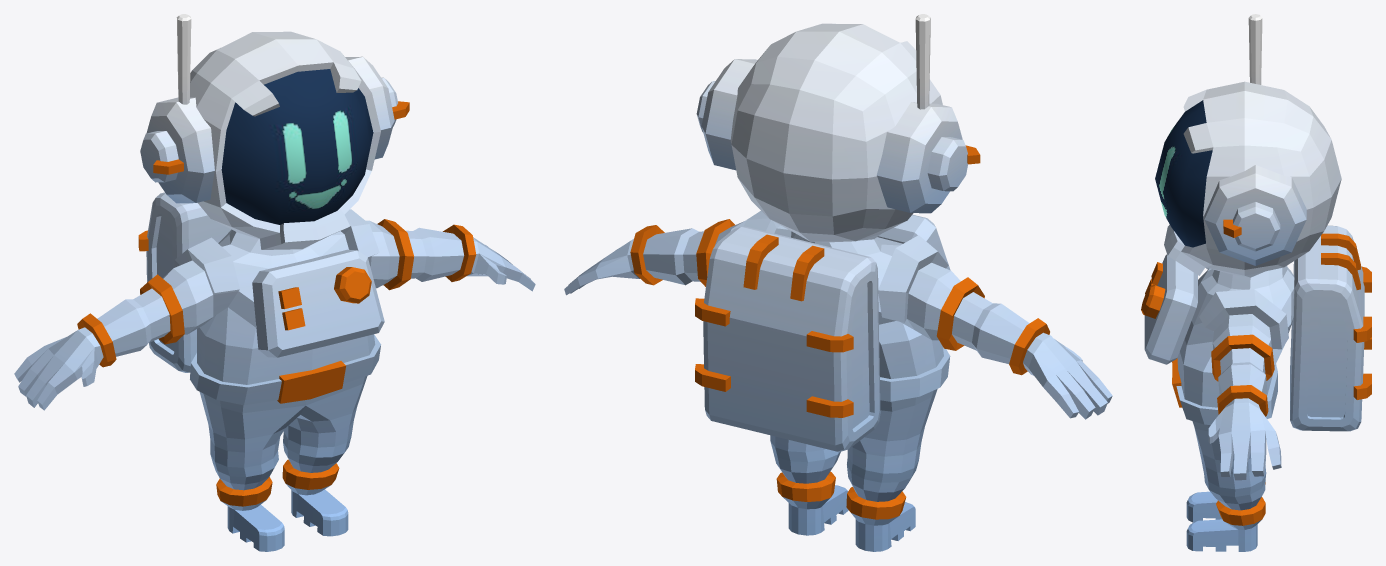
3 views of the same model, side by side, from view 1: azimuth 30°, elevation 25°; view 2: azimuth 150°, elevation 25°; view 3: azimuth 270°, elevation 25° (orthographic). The views are drawn at different scales.
Visible parts, largest first — view 1: Cylinder_Suit_Base_0, Cylinder_Suit_Details_0; view 2: Cylinder_Suit_Base_0, Cylinder_Suit_Details_0; view 3: Cylinder_Suit_Base_0, Cylinder_Suit_Details_0.
Boxes of the visible parts, x1=… form: Cylinder_Suit_Base_0: x1=14, y1=14, x2=535, y2=551; Cylinder_Suit_Details_0: x1=77, y1=101, x2=476, y2=506; Cylinder_Suit_Base_0: x1=564, y1=14, x2=1112, y2=551; Cylinder_Suit_Details_0: x1=630, y1=145, x2=1049, y2=519; Cylinder_Suit_Base_0: x1=1144, y1=14, x2=1364, y2=551; Cylinder_Suit_Details_0: x1=1141, y1=219, x2=1371, y2=525.
Bounding box in the file's own units: 0.031 × 0.031 × 0.0136.
Materials: 2 (1 with a texture image).
